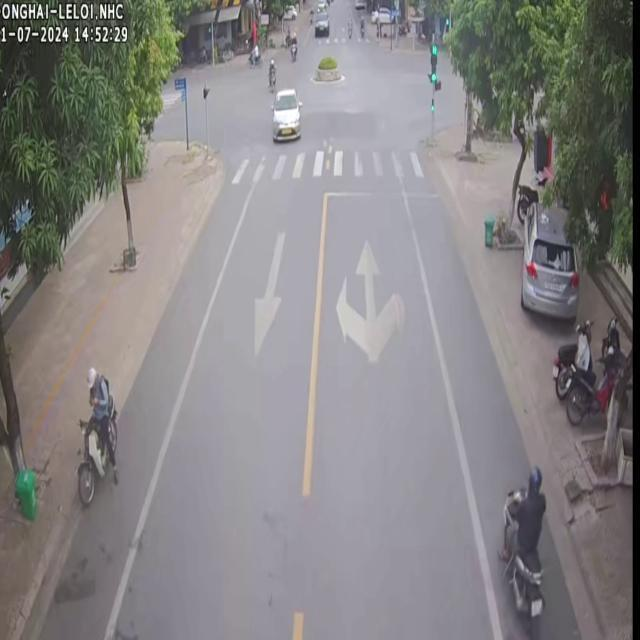car: (519, 200, 577, 317), (270, 87, 300, 140), (313, 9, 328, 35)
green_light: (431, 48, 438, 84)
motobike: (497, 465, 544, 616), (76, 365, 117, 502), (564, 351, 623, 422), (552, 318, 593, 398), (267, 56, 274, 91)
stop_line: (327, 190, 437, 197)
